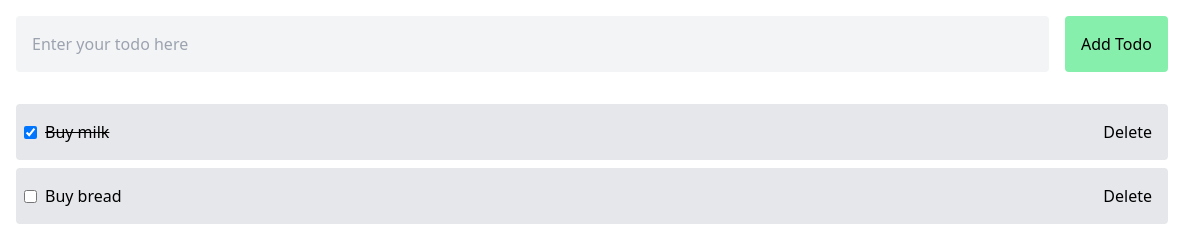
it: TodoApp › can delete item
Click the button with test id "delete0" at (1128, 132), box [1095,112,1160,152]
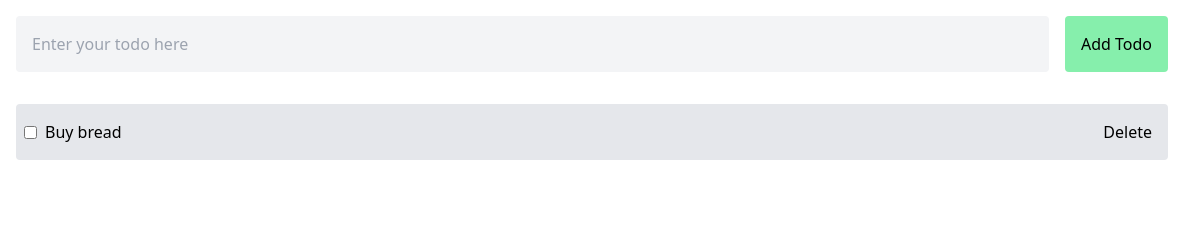
Result: the text "Buy milk" is gone
